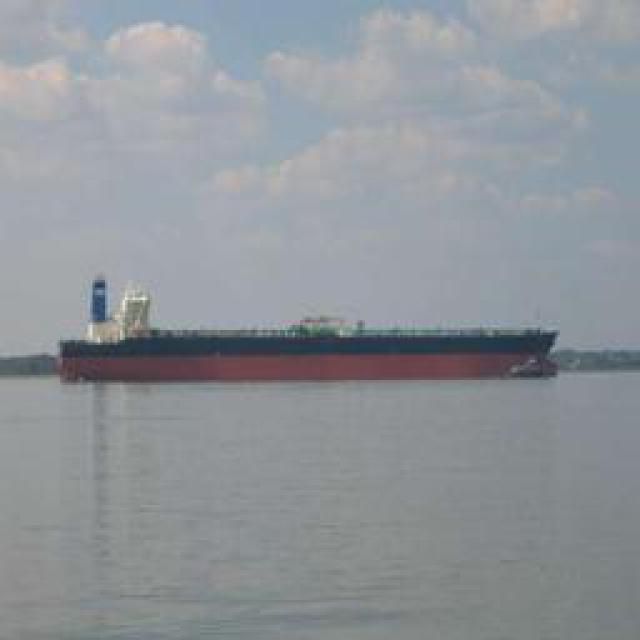Ship: (50, 311, 565, 384)
